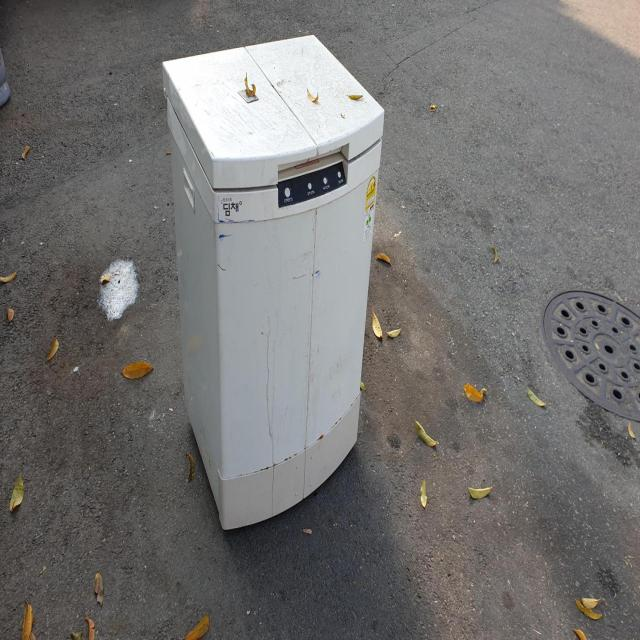refrigerator: (161, 31, 385, 528)
